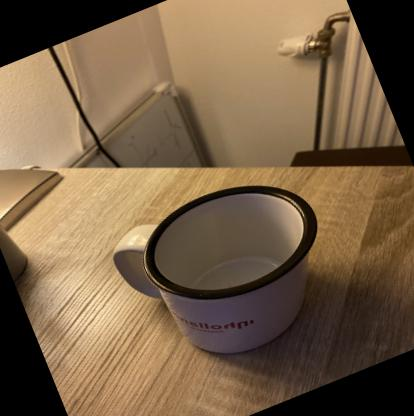Cup: (101, 156, 356, 389)
